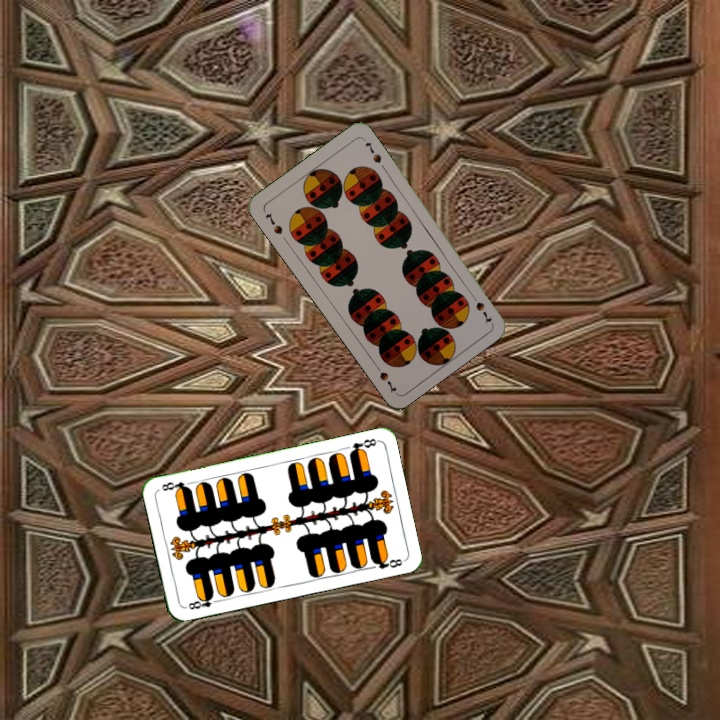E8: (182, 591, 222, 612), (345, 434, 380, 457)
S7: (466, 289, 494, 326), (261, 209, 285, 237)
